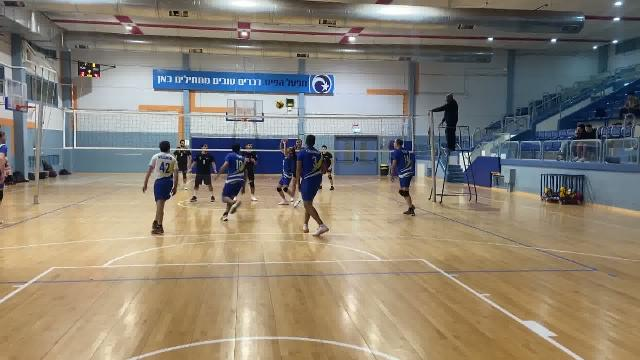ball: (274, 99, 286, 110)
